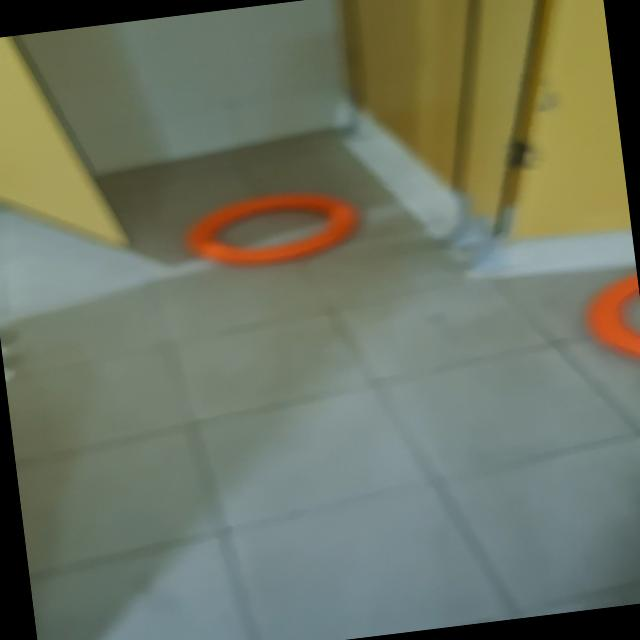note: (180, 182, 364, 273), (578, 272, 640, 367)
